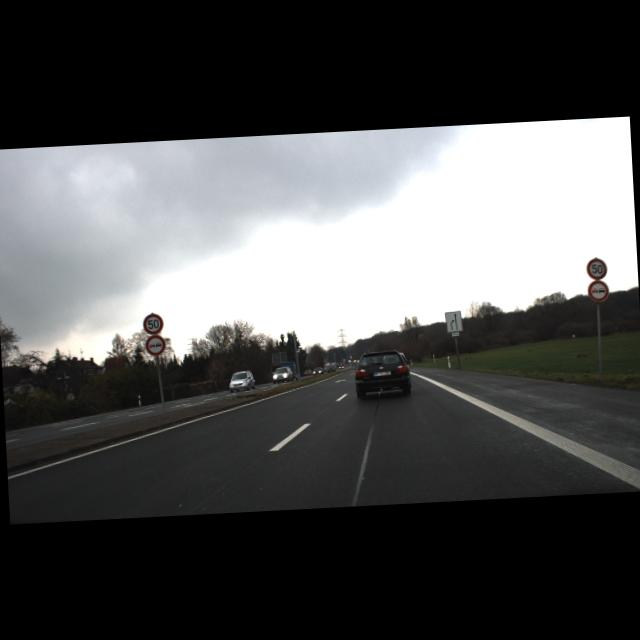prohibitory: (586, 278, 610, 300), (586, 256, 608, 278), (142, 312, 164, 334), (144, 334, 166, 356)
